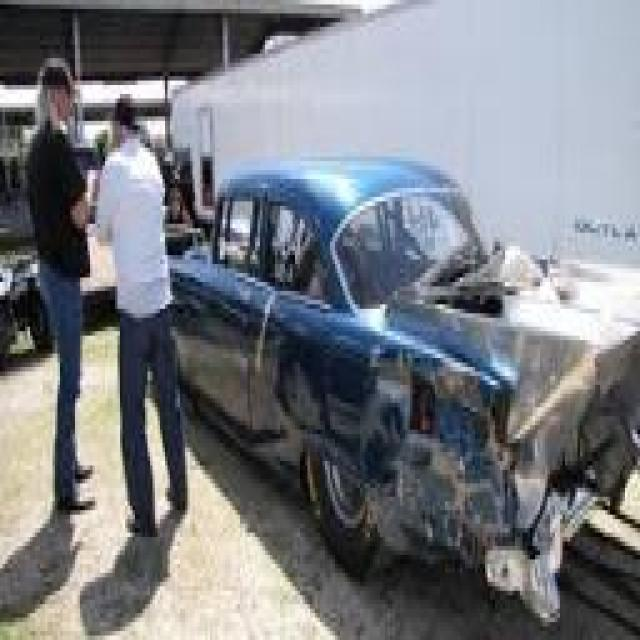Bumper: (493, 390, 640, 592)
Dickey: (364, 235, 640, 441)
Fender: (321, 321, 515, 552), (259, 316, 335, 499)
